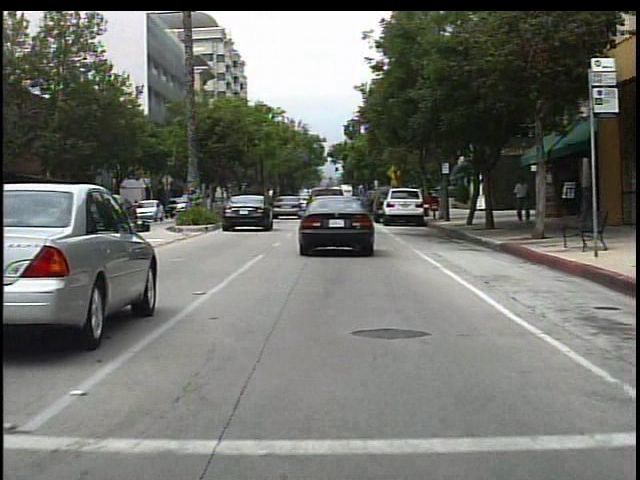person: (511, 175, 533, 225)
